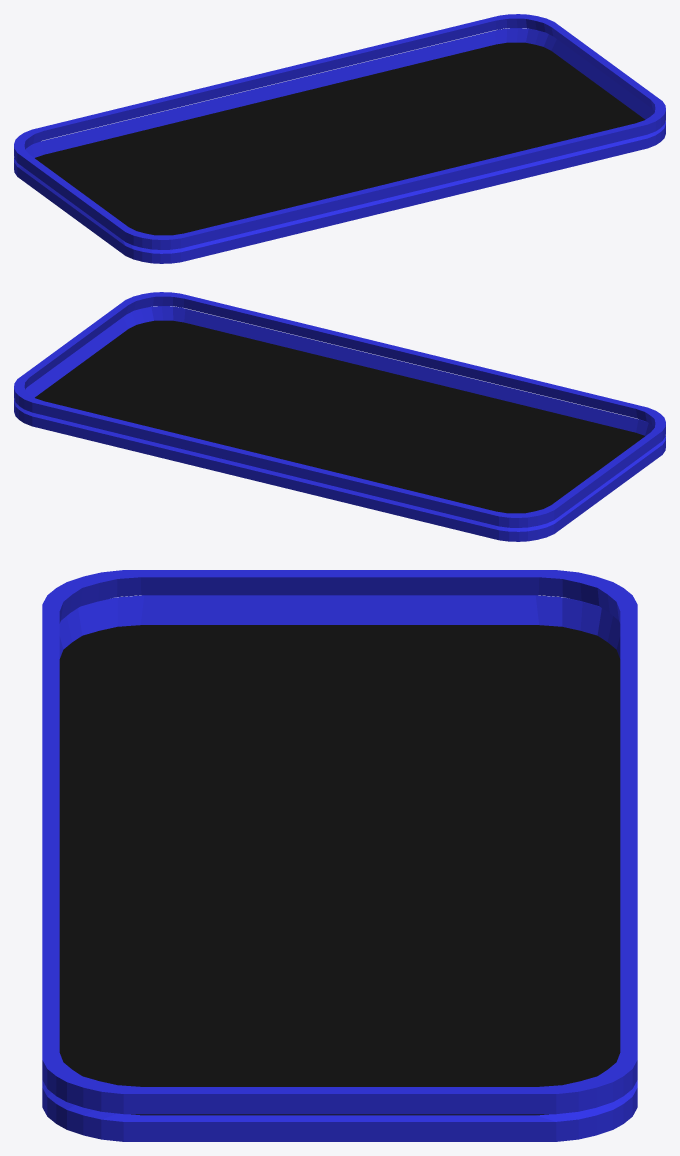
The model's file is BoardTopBottom.fbx.
3 renders of one model, top to bottom at view 1: azimuth 30°, elevation 25°; view 2: azimuth 150°, elevation 25°; view 3: azimuth 270°, elevation 25°, orthographic. The views are drawn at different scales.
Parts seen in each view (by area): view 1: BoardTopBottom; view 2: BoardTopBottom; view 3: BoardTopBottom.
Boxes of the visible parts, x1,y1,x2,y2 form: BoardTopBottom: (14, 14, 665, 263); BoardTopBottom: (14, 292, 665, 541); BoardTopBottom: (42, 570, 637, 1141).
Size of the model in its own units: 815 by 34.69 by 391.
